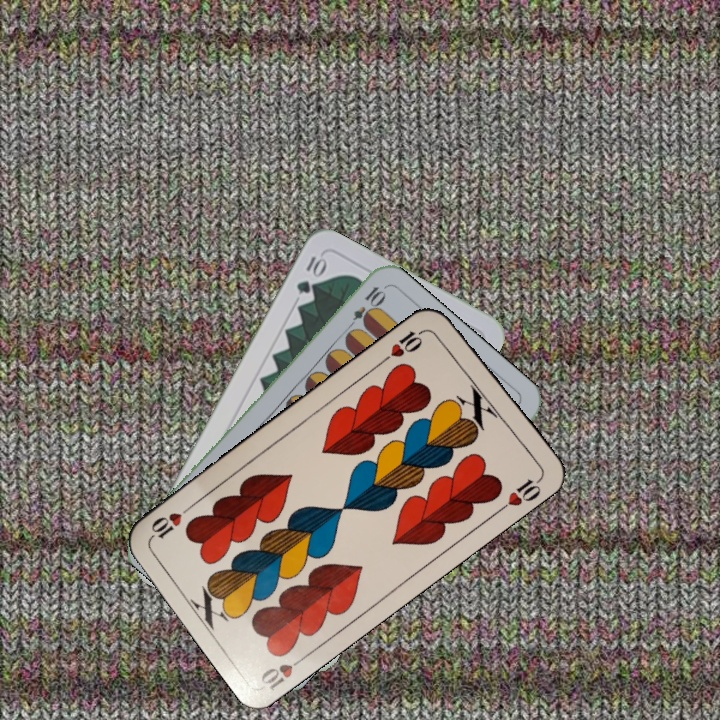E10: (342, 282, 387, 334)
G10: (292, 250, 328, 297)
H10: (257, 650, 311, 693), (379, 324, 430, 365)
